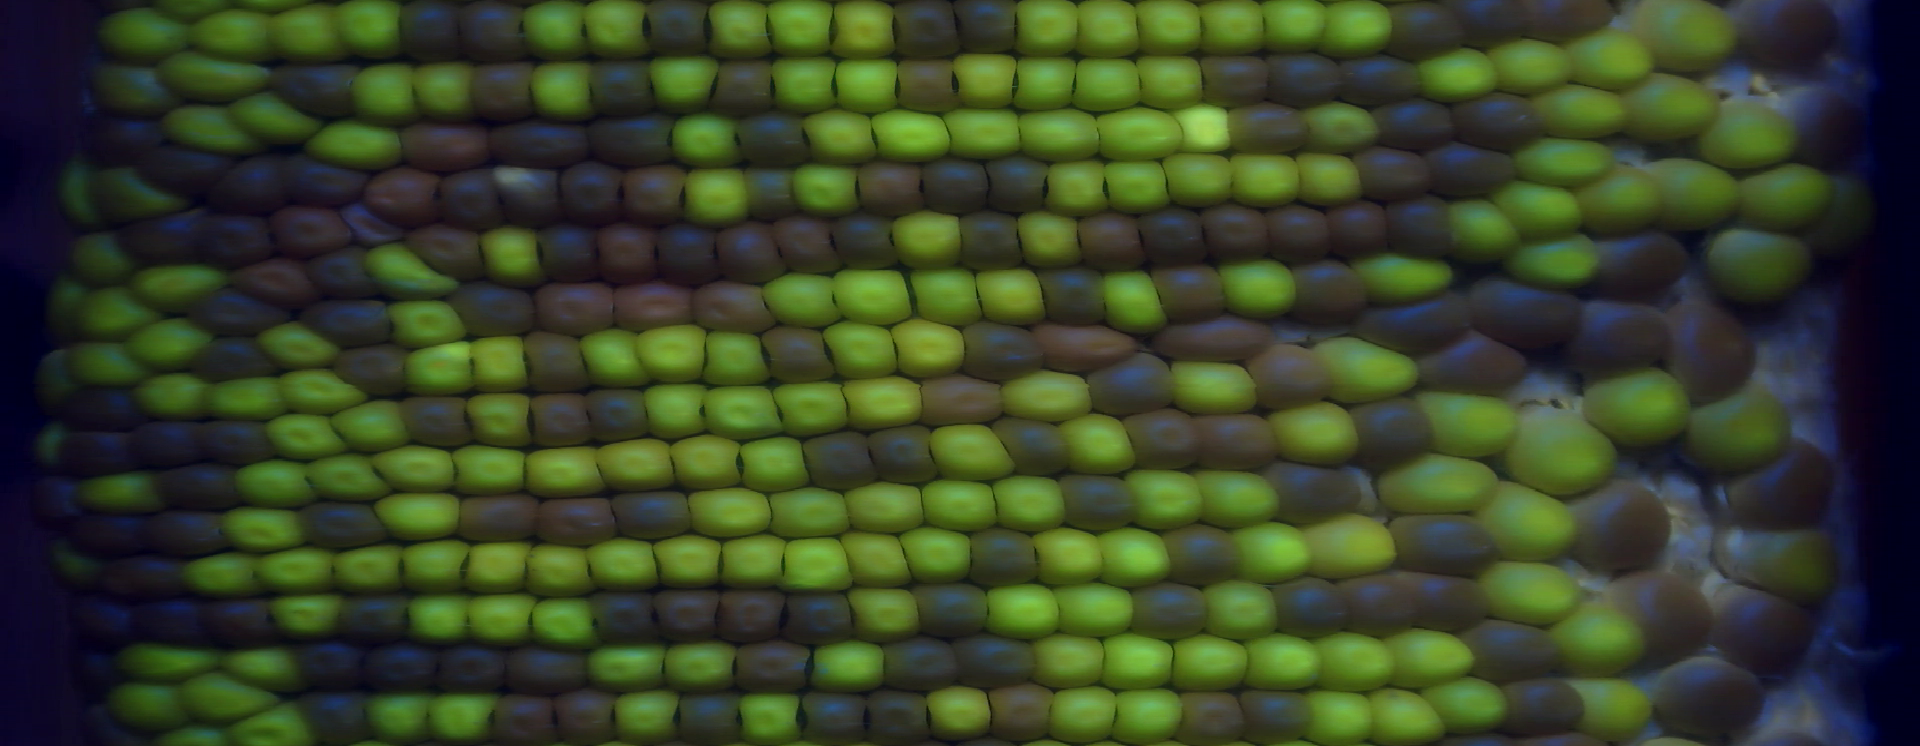fluorescent: (1717, 524, 1836, 609), (1513, 404, 1613, 497), (1583, 369, 1690, 448), (1684, 393, 1789, 473), (1482, 478, 1578, 563), (1376, 454, 1498, 516), (1704, 225, 1809, 296), (1700, 92, 1795, 168), (1553, 604, 1648, 676), (1640, 2, 1740, 69), (1423, 390, 1516, 459), (1483, 563, 1584, 627), (1738, 160, 1828, 232), (1321, 334, 1418, 401), (1621, 75, 1718, 140), (1656, 159, 1739, 230), (1575, 169, 1662, 236), (364, 239, 454, 300), (100, 7, 192, 66), (1539, 82, 1627, 142), (1498, 181, 1583, 243), (1499, 235, 1598, 288), (162, 50, 264, 100), (1171, 355, 1254, 416), (1275, 403, 1353, 467), (928, 421, 1011, 480), (1489, 37, 1567, 98), (1310, 517, 1393, 575), (306, 122, 399, 174), (1569, 37, 1654, 92), (1320, 632, 1398, 692), (1133, 467, 1205, 532), (688, 488, 775, 541), (1516, 138, 1611, 187), (1363, 250, 1453, 301), (1393, 628, 1471, 688), (1233, 522, 1310, 582), (1220, 257, 1296, 317), (1172, 635, 1248, 695), (1098, 105, 1179, 162), (1002, 372, 1092, 423), (1573, 676, 1653, 733), (182, 673, 269, 724), (835, 268, 916, 323), (93, 168, 178, 220), (348, 60, 418, 124), (1199, 472, 1281, 526), (453, 442, 531, 499), (190, 10, 276, 61), (307, 454, 393, 506), (119, 637, 218, 681), (1065, 412, 1133, 477), (227, 92, 313, 142), (798, 110, 876, 167), (1032, 635, 1109, 691), (1447, 196, 1513, 261), (922, 477, 999, 532), (704, 383, 782, 437), (845, 481, 923, 535), (1038, 526, 1104, 589), (269, 6, 344, 62), (1104, 631, 1173, 692), (1816, 174, 1869, 254), (828, 323, 898, 383), (162, 105, 251, 152), (1249, 635, 1321, 692), (1202, 582, 1275, 639), (1075, 54, 1142, 115), (580, 323, 648, 385), (1103, 268, 1163, 337), (333, 401, 413, 452), (1057, 586, 1133, 639), (782, 537, 853, 594), (996, 477, 1067, 534), (665, 639, 737, 696), (874, 108, 951, 160), (1433, 675, 1506, 730), (283, 367, 367, 415), (71, 334, 149, 386), (527, 445, 602, 497), (773, 488, 849, 540), (234, 457, 313, 507), (1021, 110, 1098, 162), (1018, 209, 1084, 269), (522, 1, 589, 60), (911, 269, 978, 328), (638, 326, 707, 383), (261, 322, 339, 372), (893, 211, 962, 267), (984, 584, 1056, 639), (387, 299, 463, 350), (774, 55, 838, 116), (703, 322, 767, 383), (137, 261, 223, 306), (947, 108, 1024, 158), (1300, 102, 1378, 152), (598, 440, 675, 490), (778, 381, 846, 437), (464, 393, 533, 450), (740, 436, 808, 492), (130, 320, 211, 367), (582, 2, 651, 58), (673, 437, 743, 492), (842, 377, 917, 429), (973, 269, 1044, 323), (909, 528, 973, 587), (895, 321, 964, 376), (105, 681, 182, 730), (407, 341, 476, 394), (833, 1, 894, 62), (268, 414, 347, 462), (1113, 691, 1184, 744), (527, 62, 591, 120), (1078, 2, 1142, 60), (1327, 1, 1393, 58), (84, 289, 157, 341), (1231, 156, 1298, 211), (767, 273, 835, 327), (1371, 688, 1440, 742), (588, 535, 658, 588), (1046, 159, 1108, 218), (809, 639, 880, 691), (651, 54, 718, 109), (1169, 152, 1236, 207), (1102, 530, 1168, 586), (468, 590, 535, 644), (220, 644, 296, 692), (845, 532, 913, 584), (223, 507, 302, 552), (414, 65, 476, 122), (669, 114, 738, 165), (525, 541, 590, 597), (1262, 1, 1329, 55), (529, 597, 595, 650), (257, 546, 336, 592), (377, 442, 453, 489), (70, 234, 138, 285), (339, 4, 400, 61), (1014, 55, 1076, 111), (769, 2, 833, 58), (1052, 688, 1116, 744), (1308, 691, 1371, 746), (333, 546, 403, 597), (853, 586, 918, 639), (482, 225, 540, 285), (1418, 51, 1487, 102), (1104, 162, 1173, 212), (613, 690, 678, 742), (722, 533, 787, 586), (133, 372, 208, 418), (1300, 152, 1360, 208), (683, 171, 746, 225), (208, 379, 291, 419), (182, 552, 255, 599), (1138, 55, 1201, 108), (367, 688, 433, 739), (793, 162, 853, 217), (591, 644, 669, 687), (835, 62, 902, 111), (1138, 2, 1199, 56), (1199, 4, 1262, 55), (658, 541, 727, 588), (644, 383, 704, 437), (107, 62, 167, 116), (473, 337, 528, 394), (228, 706, 306, 746), (956, 54, 1016, 107), (1018, 2, 1078, 55), (738, 691, 804, 739), (463, 541, 529, 589), (403, 540, 464, 592), (929, 688, 992, 739), (711, 6, 773, 56), (80, 470, 153, 512), (272, 594, 338, 638), (1178, 107, 1236, 156), (429, 693, 495, 733), (408, 597, 468, 639), (62, 164, 100, 223), (40, 345, 73, 402), (50, 282, 87, 321), (56, 545, 93, 583), (40, 428, 69, 467)
nonfluorescent: (1723, 442, 1833, 530), (1708, 582, 1809, 676), (1600, 573, 1709, 657), (1569, 481, 1668, 571), (1656, 657, 1760, 733), (1667, 307, 1749, 402), (1569, 303, 1667, 377), (1419, 330, 1523, 399), (1474, 278, 1580, 347), (1733, 2, 1837, 65), (1596, 230, 1686, 296), (1791, 87, 1860, 170), (1393, 513, 1487, 573), (1467, 617, 1560, 677), (1365, 295, 1468, 349), (269, 62, 358, 122), (1091, 350, 1173, 413), (189, 287, 288, 337), (1357, 394, 1427, 465), (1251, 344, 1332, 405), (923, 372, 1009, 430), (489, 121, 591, 169), (1272, 462, 1358, 518), (1272, 576, 1349, 638), (1127, 582, 1210, 639), (1502, 675, 1586, 733), (1198, 410, 1276, 470), (1458, 92, 1538, 151), (1155, 318, 1273, 358), (77, 111, 158, 169), (1038, 322, 1138, 369), (1294, 258, 1360, 327), (404, 223, 482, 281), (1427, 147, 1516, 197), (364, 167, 438, 227), (801, 432, 876, 492), (122, 211, 209, 262), (962, 321, 1038, 380), (1128, 405, 1198, 469), (880, 637, 958, 695), (615, 277, 693, 333), (453, 287, 533, 342), (536, 495, 620, 548), (782, 588, 853, 649), (1340, 51, 1418, 107), (493, 164, 558, 230), (560, 162, 626, 227), (458, 492, 538, 546), (967, 528, 1037, 589), (274, 154, 364, 202), (587, 118, 673, 167), (1155, 262, 1227, 321), (534, 283, 618, 333), (300, 499, 382, 550), (1390, 2, 1460, 62), (715, 587, 786, 646), (1376, 100, 1457, 152), (656, 224, 721, 288), (531, 390, 598, 452), (1003, 419, 1069, 481), (913, 583, 987, 638), (1202, 200, 1269, 261), (468, 62, 535, 122), (62, 512, 147, 560), (1343, 576, 1412, 635), (1063, 474, 1133, 532), (643, 1, 714, 58), (692, 282, 768, 334), (399, 124, 482, 171), (96, 554, 179, 601), (857, 157, 923, 217), (738, 109, 806, 168), (502, 647, 584, 695), (436, 642, 507, 697), (958, 633, 1029, 688), (1269, 51, 1340, 107), (1389, 198, 1453, 258), (273, 208, 345, 262), (305, 249, 377, 303), (588, 58, 655, 115), (1228, 107, 1311, 153), (1242, 688, 1311, 744), (918, 157, 988, 212), (613, 490, 692, 539), (960, 209, 1022, 271), (1081, 211, 1141, 274), (1356, 146, 1428, 198), (436, 171, 503, 228), (336, 344, 403, 401), (765, 327, 833, 383), (1411, 573, 1478, 630), (154, 465, 240, 510), (309, 300, 389, 347), (735, 642, 813, 690), (54, 428, 130, 477), (869, 425, 937, 480), (651, 586, 719, 641), (147, 147, 227, 194), (1043, 266, 1103, 327), (1266, 201, 1326, 262), (624, 162, 683, 224), (198, 416, 273, 465), (1167, 526, 1232, 582), (462, 7, 528, 62), (1202, 54, 1269, 109), (713, 54, 773, 114), (366, 642, 440, 691), (527, 334, 588, 393), (69, 589, 133, 644), (398, 4, 458, 62), (895, 56, 956, 114), (234, 262, 313, 306), (1461, 1, 1531, 51), (56, 387, 133, 432), (988, 682, 1048, 740), (720, 222, 778, 282), (596, 225, 658, 282), (133, 597, 202, 647), (895, 1, 958, 56), (1325, 202, 1389, 256), (593, 590, 658, 643), (208, 600, 276, 650), (833, 213, 893, 269), (191, 334, 267, 379), (535, 222, 594, 278), (1528, 1, 1613, 40), (590, 387, 650, 442), (203, 220, 271, 269), (776, 217, 838, 271), (1142, 207, 1204, 261), (298, 642, 360, 695), (864, 688, 927, 741), (953, 1, 1018, 51), (405, 397, 471, 446), (300, 693, 361, 746), (1178, 692, 1242, 741), (223, 157, 278, 213), (673, 691, 735, 741), (133, 421, 201, 467), (988, 157, 1043, 211), (803, 693, 867, 740), (493, 693, 553, 742), (343, 595, 409, 639), (148, 517, 227, 554), (743, 168, 797, 217), (75, 642, 118, 701), (347, 205, 396, 247)
